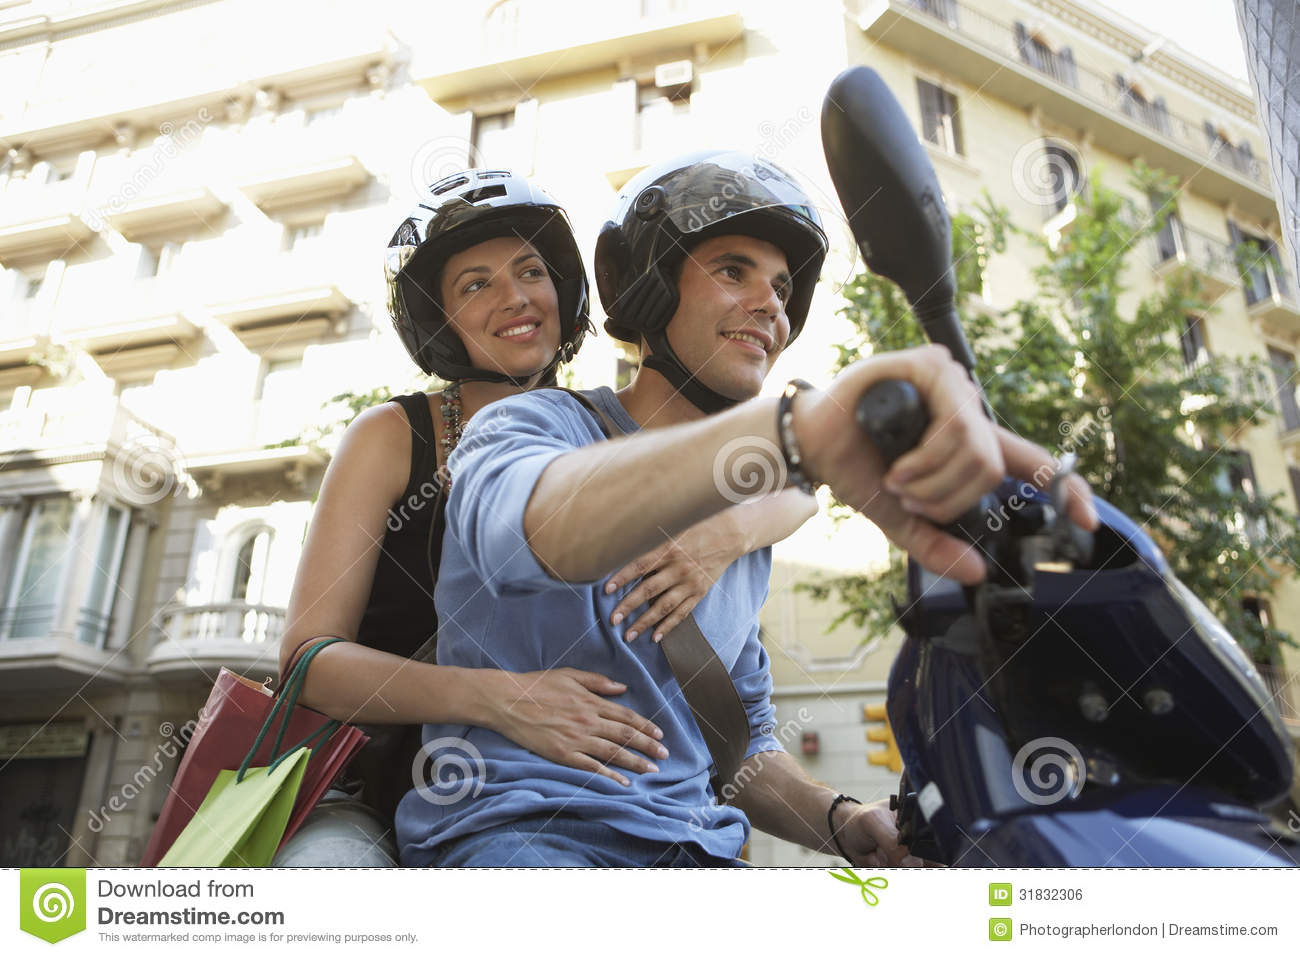helmet: (367, 174, 598, 357), (592, 145, 829, 308)
